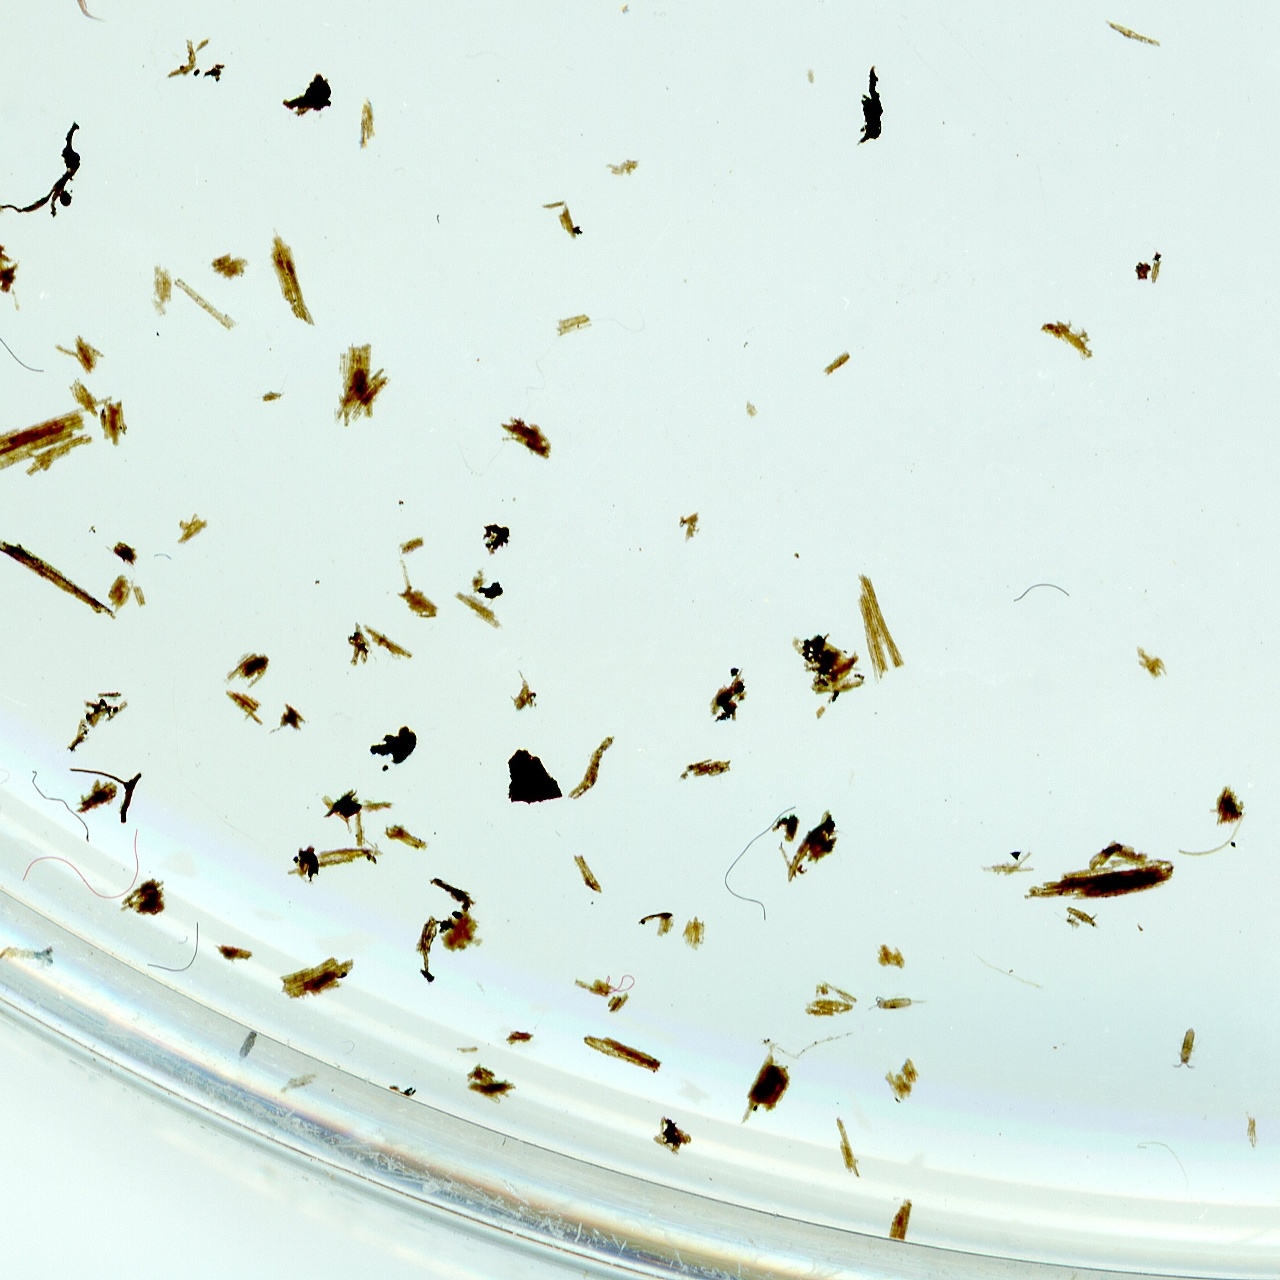arthropod: (12, 0, 120, 48), (1171, 1024, 1201, 1074), (865, 994, 931, 1015)
